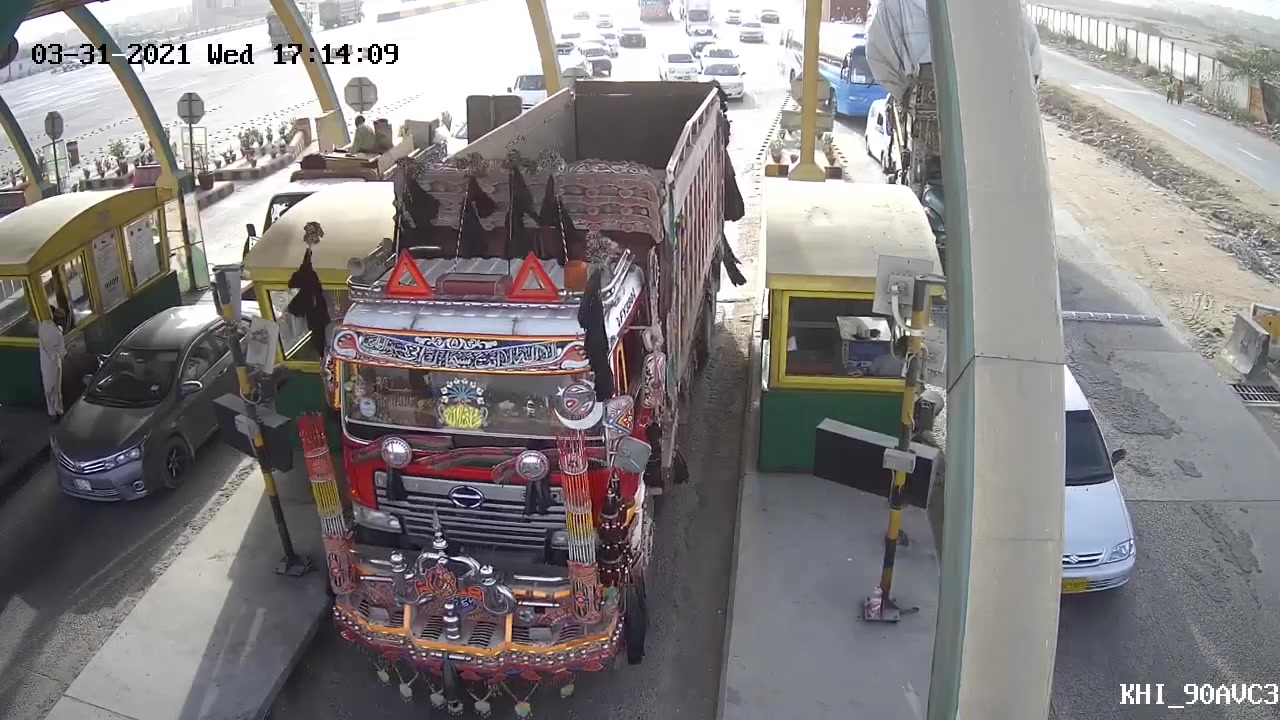F5: (314, 70, 746, 703)
